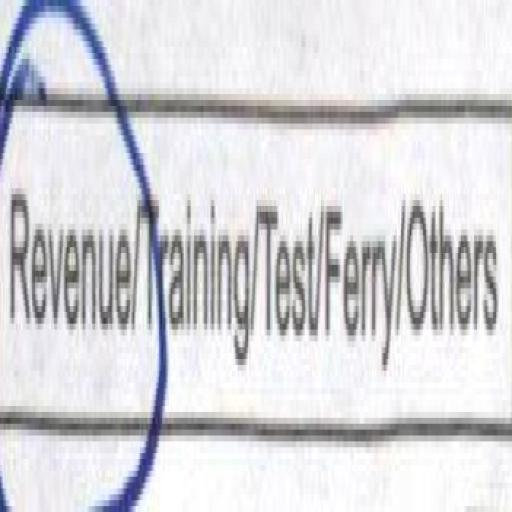check: (0, 0, 139, 506)
